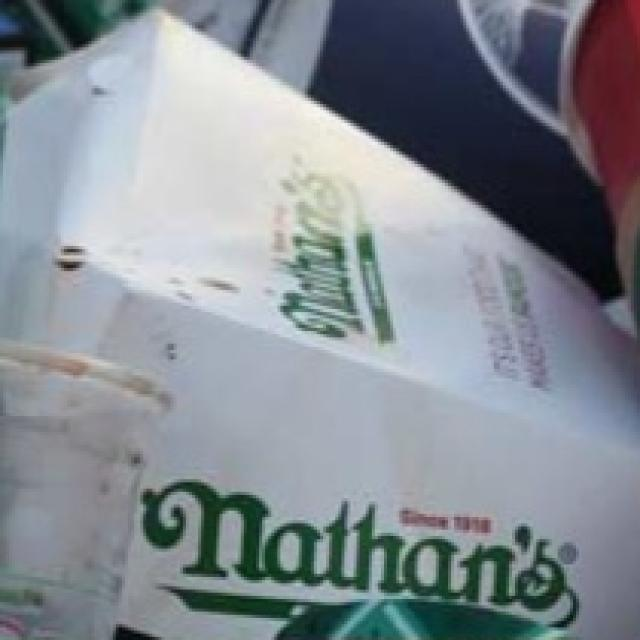drink carton: (19, 0, 640, 628)
